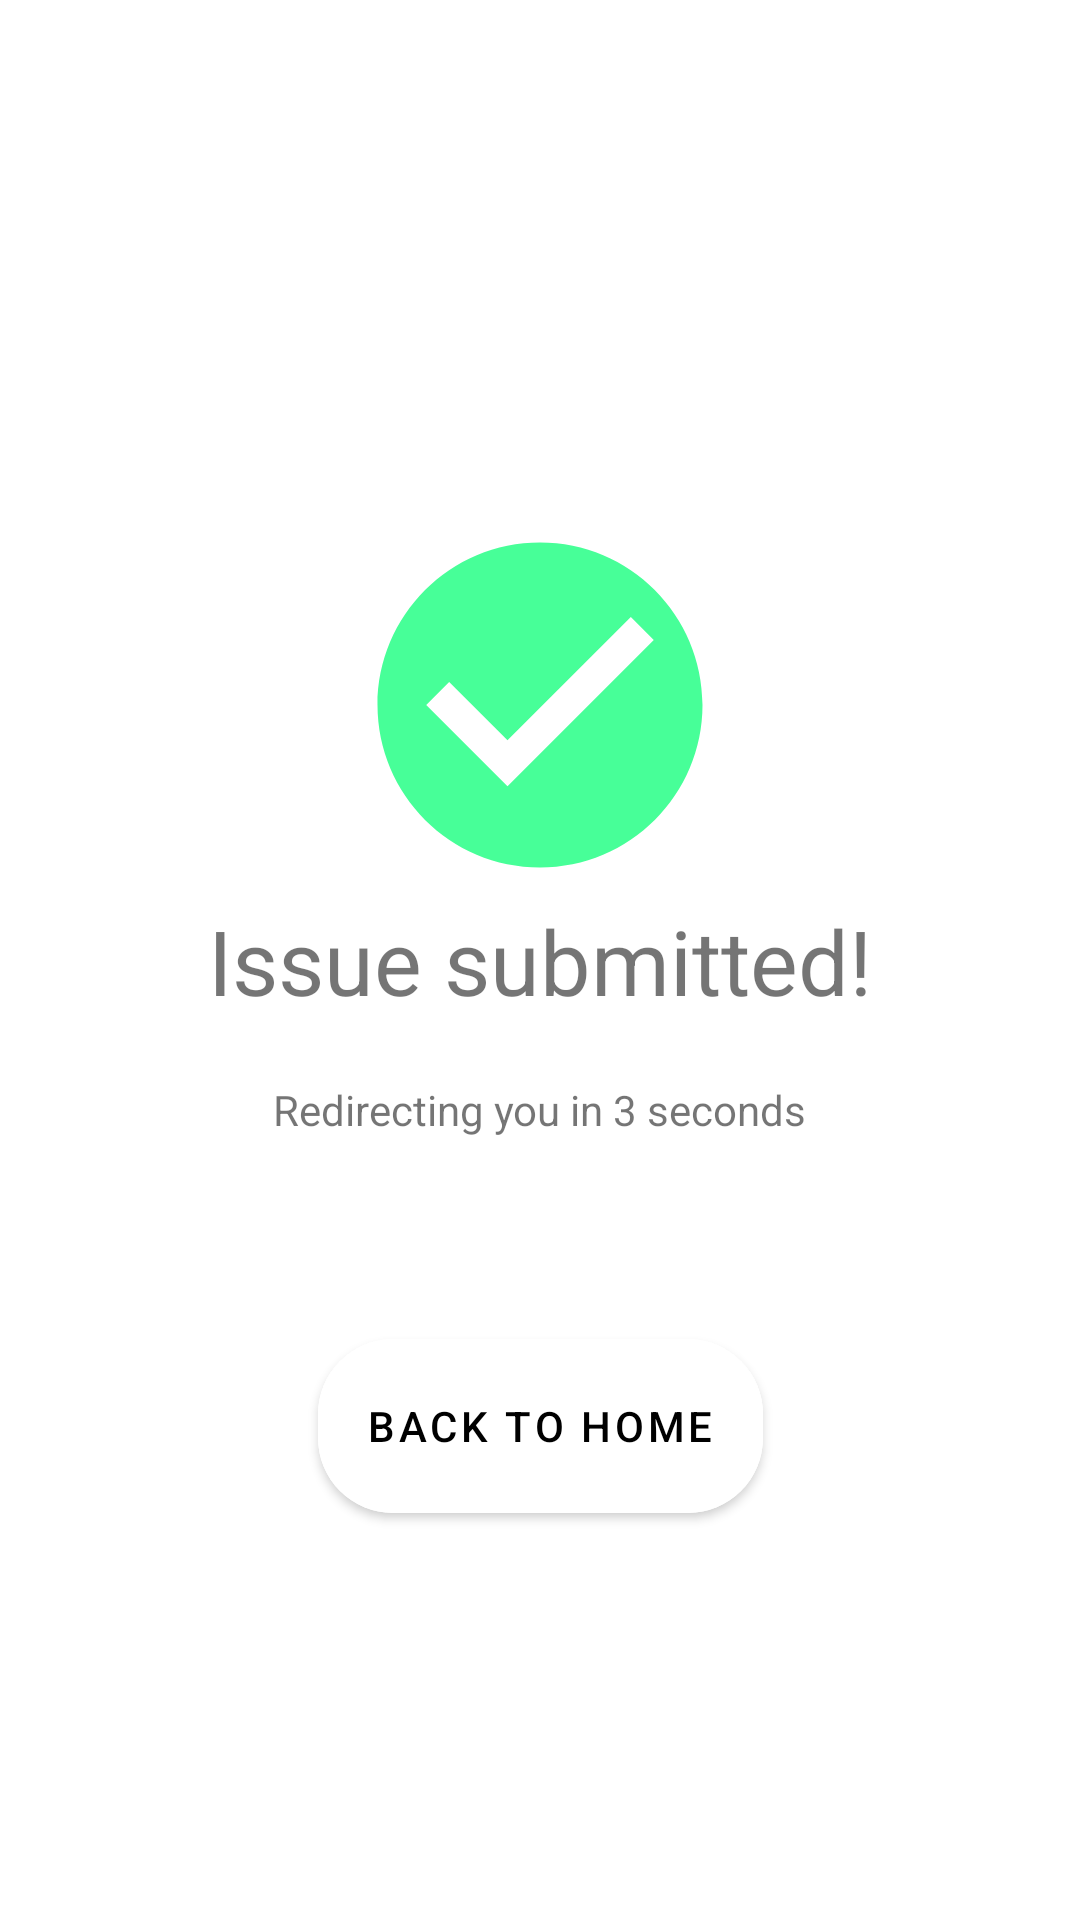

Named icons in this screenshot (1080w x 1920h) and their bounding boxes, {"left": x1, "top": y1, "right": x2, "bottom": y2}:
check: {"left": 377, "top": 542, "right": 703, "bottom": 868}
